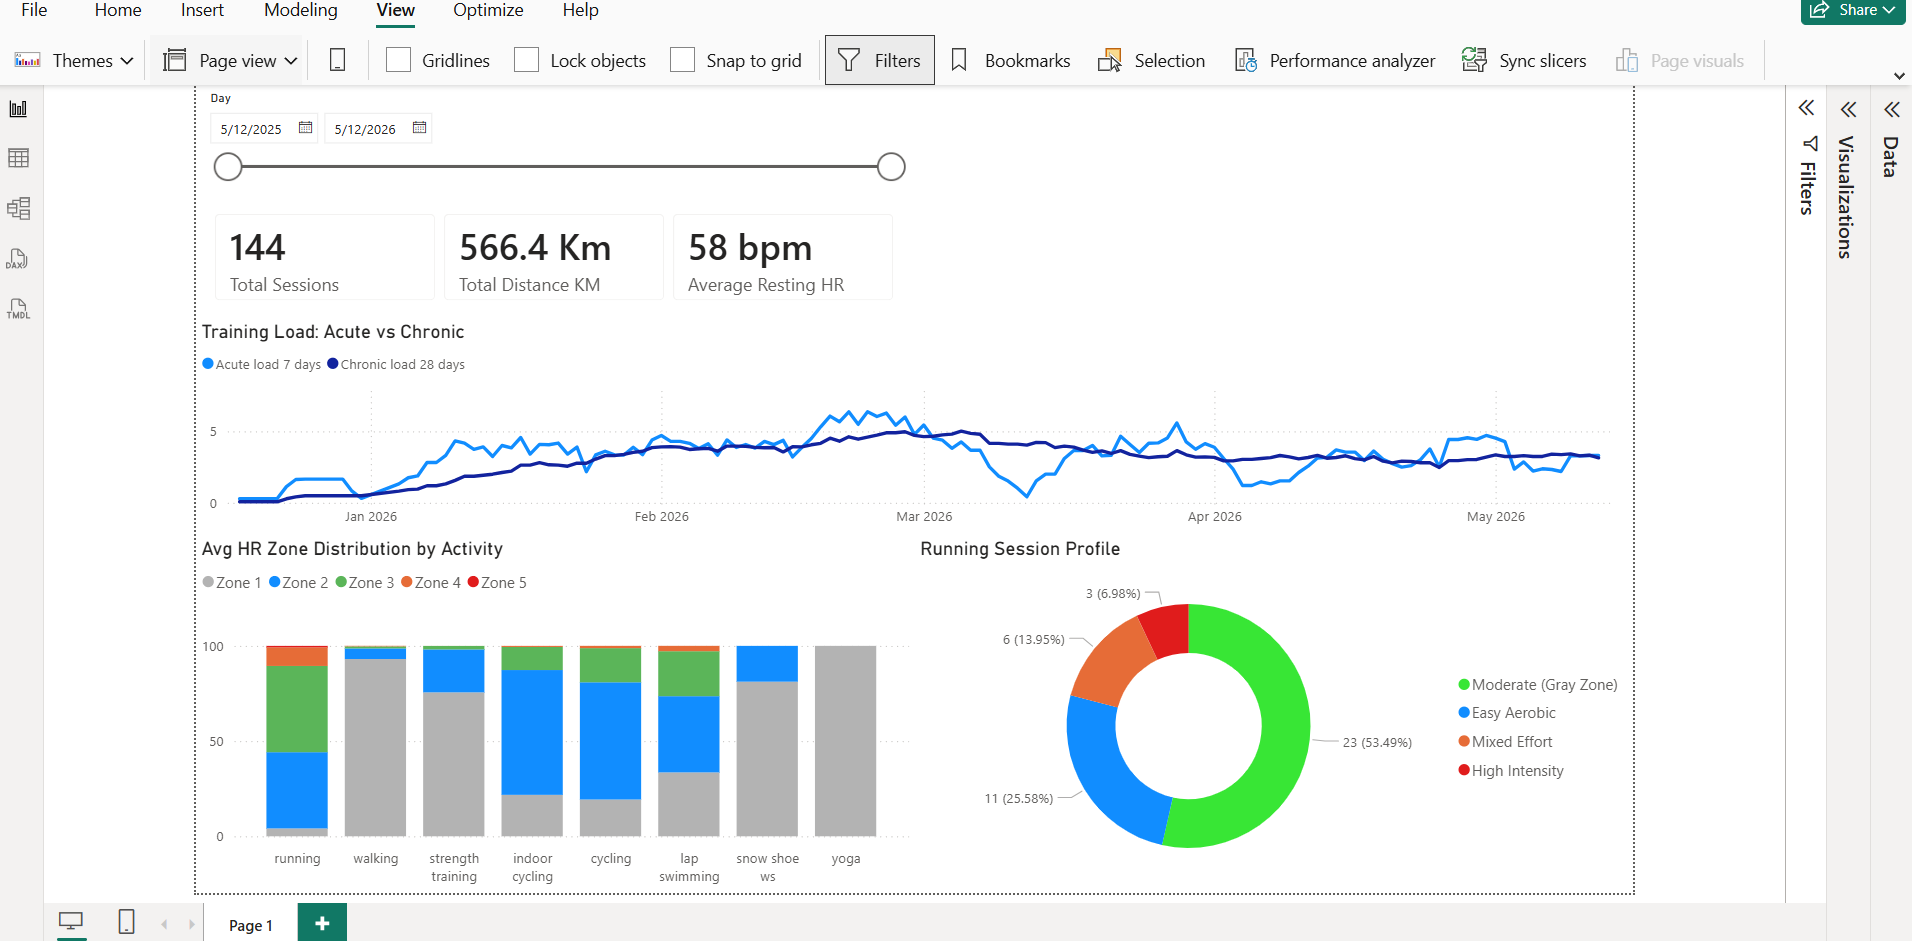

Layout of this report page (visuals, bound fields, positions):
{"tool":"powerbi","page":{"name":"Page 1","canvas":[1280,720],"ordinal":0},"visuals":[{"type":"cardVisual","fields":{"Data":["analytics fct_daily_training.Total Sessions","analytics fct_daily_training.Total Distance KM","analytics fct_daily_training.Average Resting HR"]},"box":[0,98,640.2,111.8],"z":0},{"type":"slicer","fields":{"Values":["analytics fct_daily_training.date_day"]},"box":[0,0,640.2,98],"z":1},{"type":"lineChart","title":"Training Load: Acute vs Chronic","fields":{"Y":["Sum(analytics fct_weekly_training_load.acute_load_7d)","Sum(analytics fct_weekly_training_load.chronic_load_28d)"],"Category":["analytics fct_weekly_training_load.date_day"]},"box":[0,209.8,1280.3,193],"z":2},{"type":"columnChart","title":"Avg HR Zone Distribution by Activity","fields":{"Category":["analytics fct_hr_zones.activity_type"],"Y":["Avg(analytics fct_hr_zones.z1_pct)","Avg(analytics fct_hr_zones.z2_pct)","Avg(analytics fct_hr_zones.z3_pct)","Avg(analytics fct_hr_zones.z4_pct)","Avg(analytics fct_hr_zones.z5_pct)"]},"box":[0,402.8,640.2,317],"z":3},{"type":"donutChart","title":"Running Session Profile","fields":{"Category":["analytics fct_hr_zones.session_profile"],"Y":["CountNonNull(analytics fct_hr_zones.activity_id)"]},"box":[640.2,402.8,640.2,317],"z":4}]}

Visuals, with their boxes on the page's 1280x720 design canvas (x1, y1, x2, y2). These are canvas units, not pixel positions in the 1912x941 screenshot, which may show the page scaled, cropped or inside an application window:
cardVisual - analytics fct_daily_training.Total Sessions x analytics fct_daily_training.Total Distance KM: locate(0, 98, 640, 210)
slicer - analytics fct_daily_training.date_day: locate(0, 0, 640, 98)
"Training Load: Acute vs Chronic" lineChart: locate(0, 210, 1280, 403)
"Avg HR Zone Distribution by Activity" columnChart: locate(0, 403, 640, 720)
"Running Session Profile" donutChart: locate(640, 403, 1280, 720)
